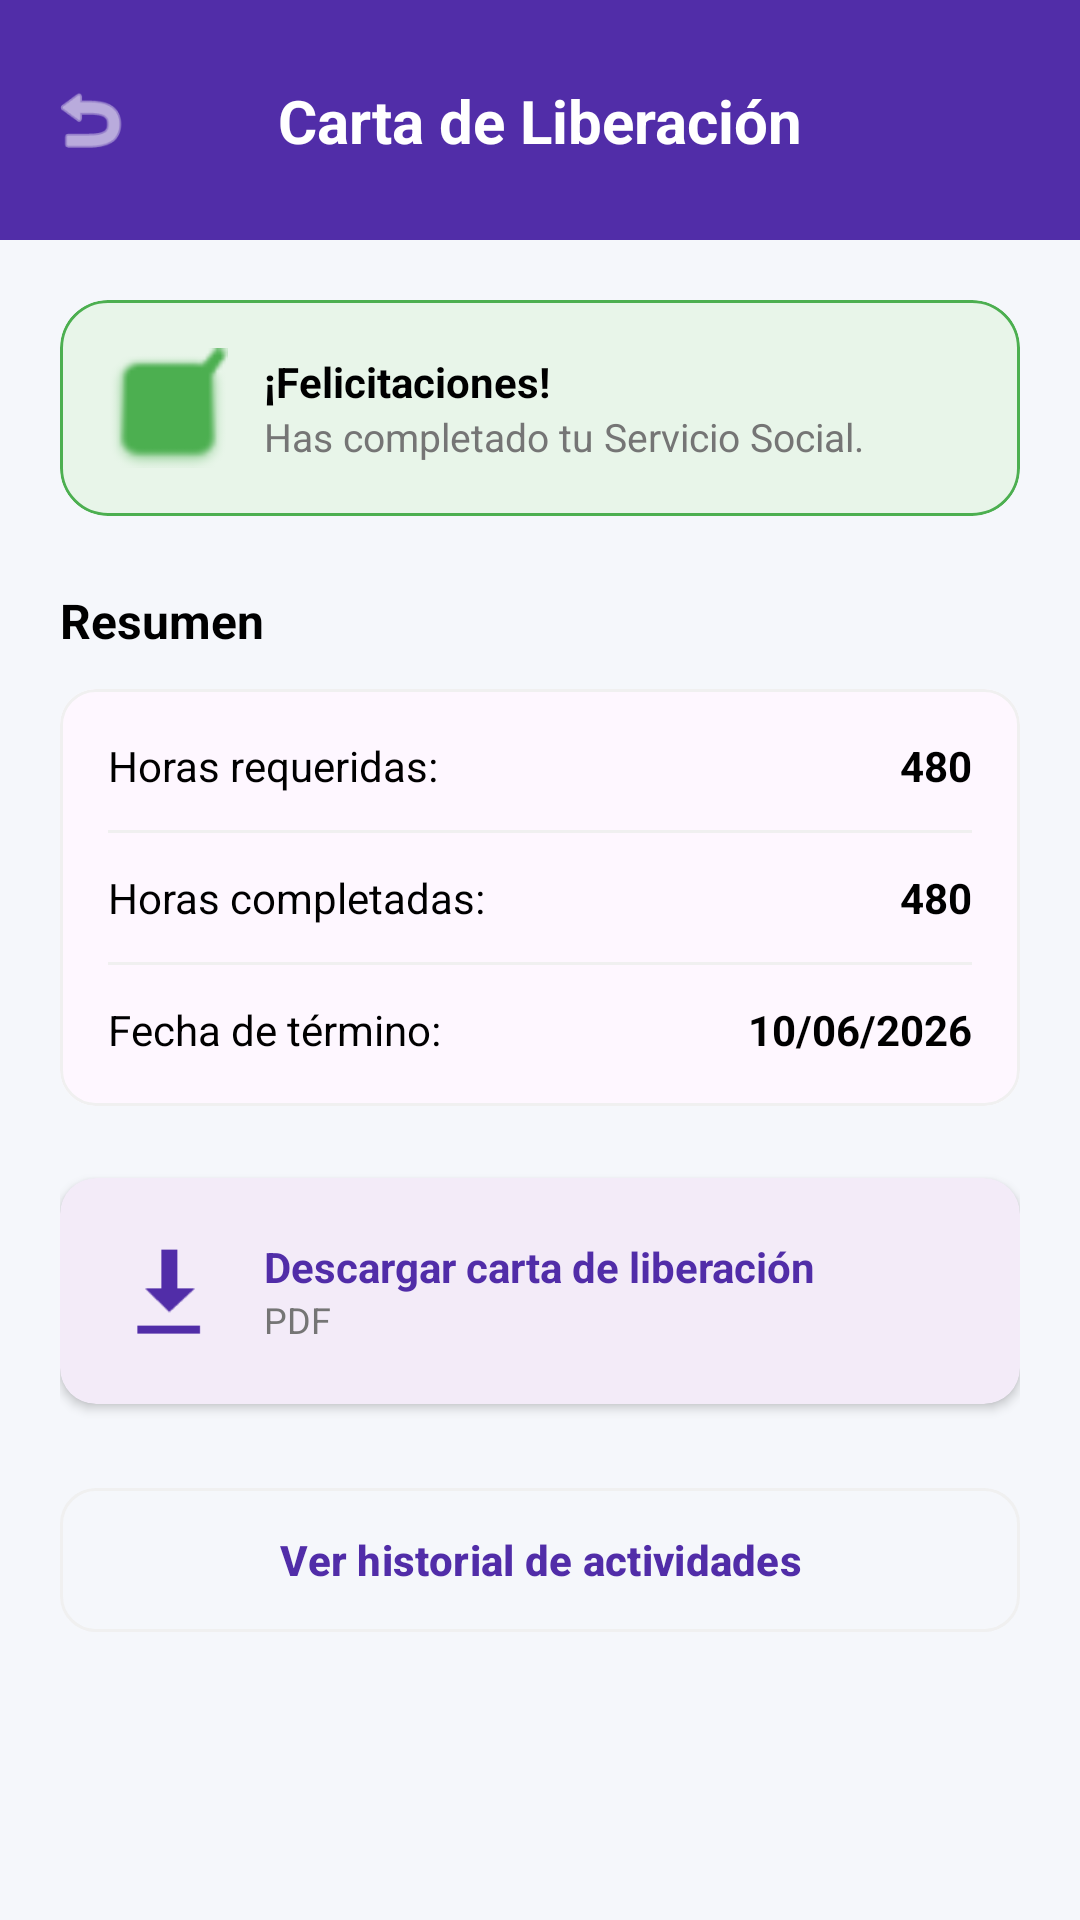

Screen size 1080 × 1920. Icon name, then its center in pixels as (x,y):
download: (168,1291)
revert: (91,120)
